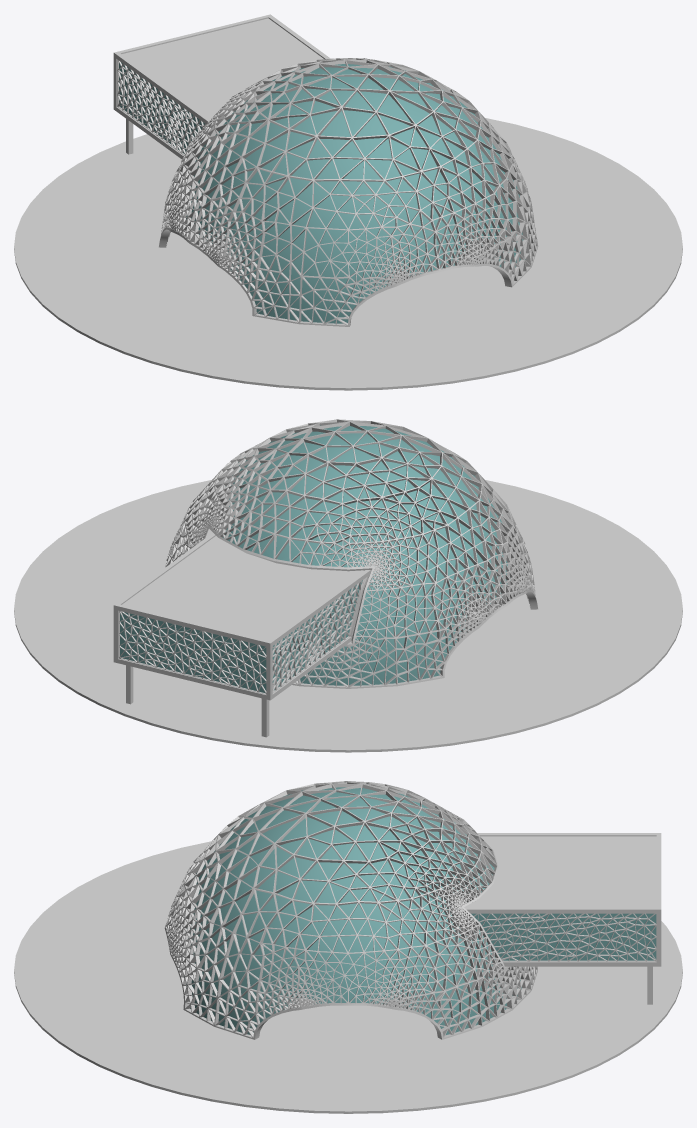
File: dome.glb
3 renders of one model, top to bottom at view 1: azimuth 30°, elevation 25°; view 2: azimuth 150°, elevation 25°; view 3: azimuth 270°, elevation 25°, orthographic.
Parts seen in each view (by area): view 1: Cylinder, geo1; view 2: geo1, Cylinder; view 3: geo1, Cylinder.
Boxes of the visible parts, <box> form: Cylinder: <box>14,118,682,390</box>; geo1: <box>113,14,538,326</box>; geo1: <box>113,419,537,737</box>; Cylinder: <box>14,480,682,752</box>; geo1: <box>164,781,661,1039</box>; Cylinder: <box>14,841,682,1113</box>.
Size of the model in its own units: 1.8 by 0.5145 by 1.8.
